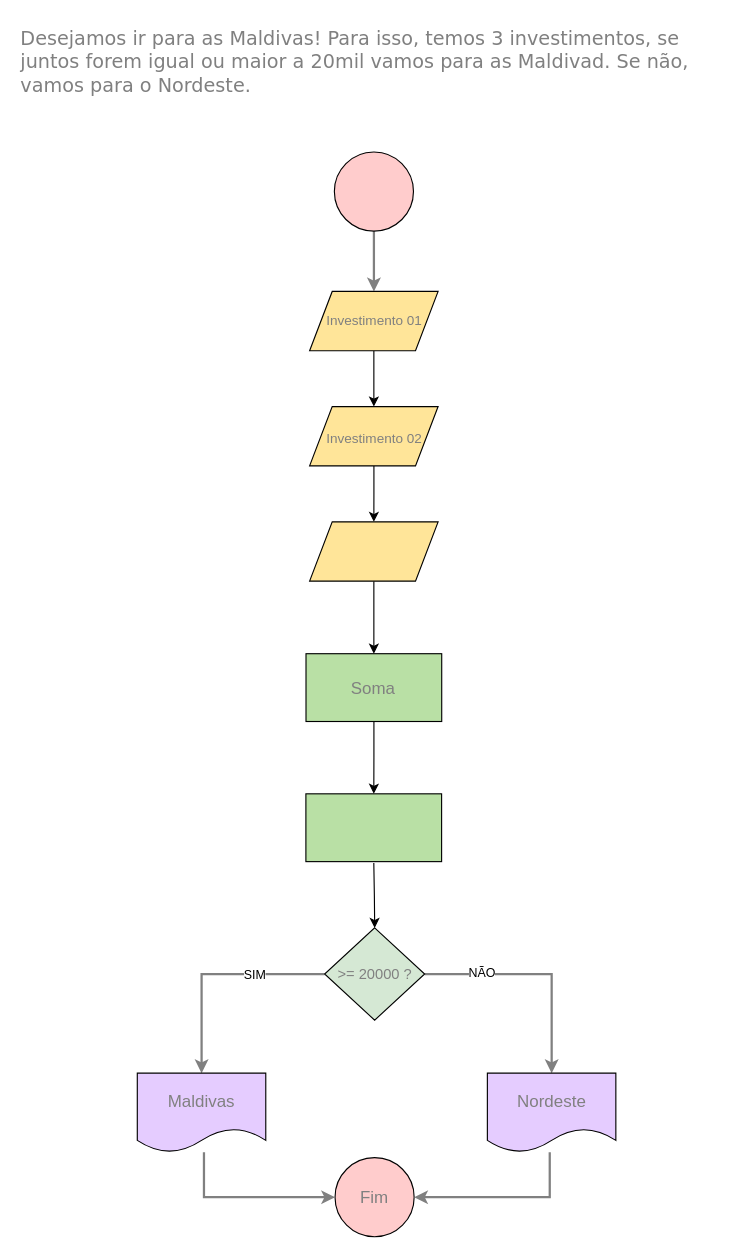
Image size: 748x1257. Some labels were removed from this diagram. Here are the shapes that lost their labels. From the top down, the box of each, then its label:
(333, 151, 413, 231): Início
(308, 521, 438, 581): Investimento 03
(305, 793, 442, 862): total_investimento
